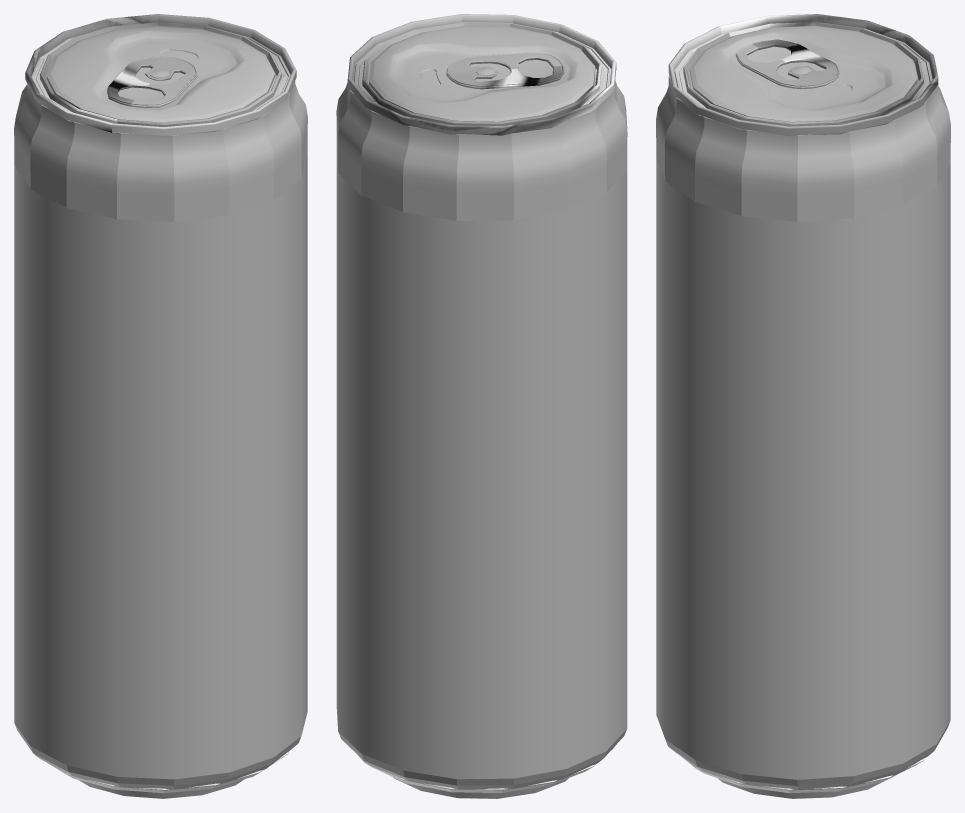
The model's file is oEnergy.fbx.
The picture shows the model from 3 angles, left to right: view 1: azimuth 30°, elevation 25°; view 2: azimuth 150°, elevation 25°; view 3: azimuth 270°, elevation 25°; orthographic projection.
Visible parts, largest first — view 1: Redbull_body, Redbull_top, Redbull_bottom; view 2: Redbull_body, Redbull_top, Redbull_bottom; view 3: Redbull_body, Redbull_top, Redbull_bottom.
Boxes of the visible parts, x1,y1,x2,y2 form: Redbull_body: (14,81,307,789); Redbull_top: (25,14,296,136); Redbull_bottom: (35,751,289,798); Redbull_body: (336,80,627,789); Redbull_top: (347,14,616,135); Redbull_bottom: (358,746,615,798); Redbull_body: (656,76,950,789); Redbull_top: (668,14,938,136); Redbull_bottom: (681,756,925,798).
Size of the model in its own units: 0.4332 by 1.11 by 0.4332.
